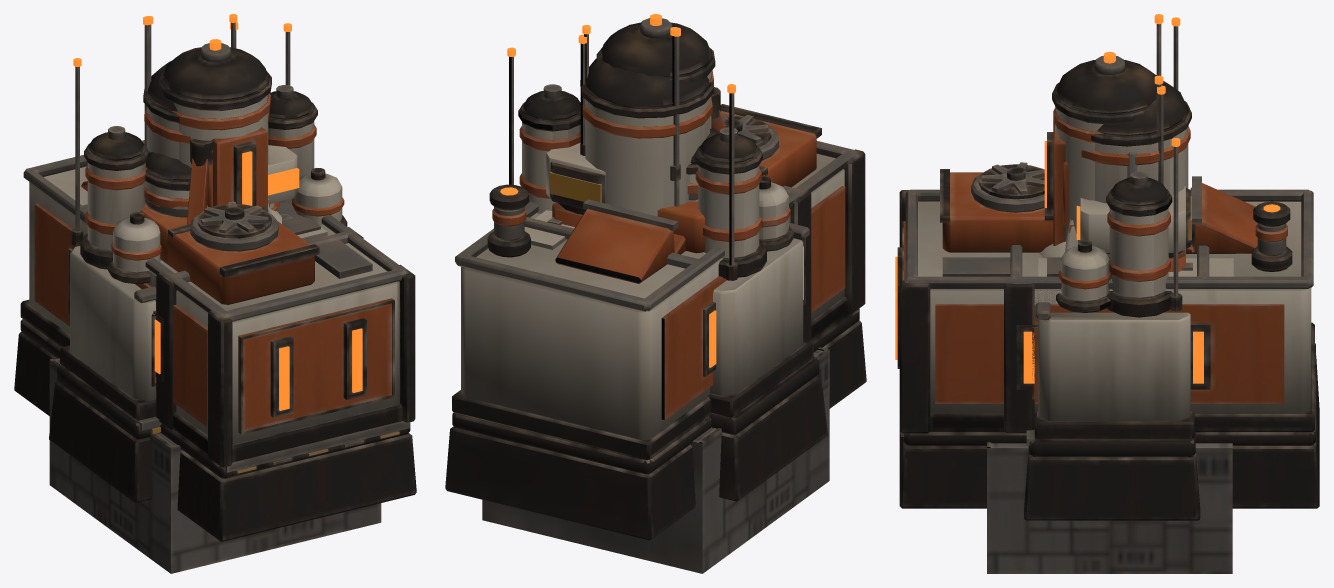
File: facility-kit-v3.glb
3 views of the same model, side by side, from view 1: azimuth 30°, elevation 25°; view 2: azimuth 150°, elevation 25°; view 3: azimuth 270°, elevation 25° (orthographic). The views are drawn at different scales.
Parts seen in each view (by area): view 1: fk_khepri_hall_l, fk_khepri_refinery, fk_khepri_apron, fk_khepri_tower, fk_khepri_hall_s, fk_khepri_crane, fk_khepri_columns, fk_khepri_spire; view 2: fk_khepri_hall_l, fk_khepri_refinery, fk_khepri_apron, fk_khepri_tower, fk_khepri_hall_s, fk_khepri_crane, fk_khepri_spire; view 3: fk_khepri_hall_l, fk_khepri_refinery, fk_khepri_apron, fk_khepri_tower, fk_khepri_hall_s, fk_khepri_crane, fk_khepri_spire.
Boxes of the visible parts, x1,y1,x2,y2 form: fk_khepri_hall_l: (14,140,416,541); fk_khepri_refinery: (49,23,347,502); fk_khepri_apron: (49,358,381,573); fk_khepri_tower: (143,16,271,209); fk_khepri_hall_s: (80,199,363,429); fk_khepri_crane: (187,138,299,224); fk_khepri_columns: (144,152,277,213); fk_khepri_spire: (145,14,271,214); fk_khepri_hall_l: (445,104,866,540); fk_khepri_refinery: (507,47,827,501); fk_khepri_apron: (482,347,829,573); fk_khepri_tower: (578,18,715,206); fk_khepri_hall_s: (524,165,811,430); fk_khepri_crane: (546,87,725,226); fk_khepri_spire: (580,14,680,180); fk_khepri_hall_l: (895,162,1319,508); fk_khepri_refinery: (1024,17,1200,520); fk_khepri_apron: (987,442,1232,573); fk_khepri_tower: (1044,14,1165,245); fk_khepri_hall_s: (1004,208,1209,442); fk_khepri_crane: (1076,185,1191,271); fk_khepri_spire: (1065,15,1163,250).
Size of the model in its own units: 2.34 by 4.35 by 3.45.
Materials: 3 (1 with a texture image).
